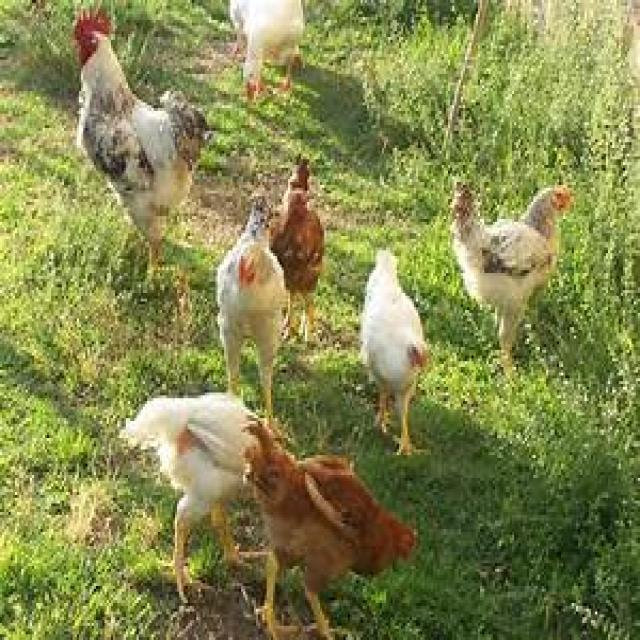hen: (245, 422, 416, 638), (74, 12, 206, 269), (120, 393, 255, 601), (451, 183, 572, 371), (218, 197, 288, 416), (361, 250, 429, 454), (270, 158, 325, 341), (230, 0, 305, 98)
